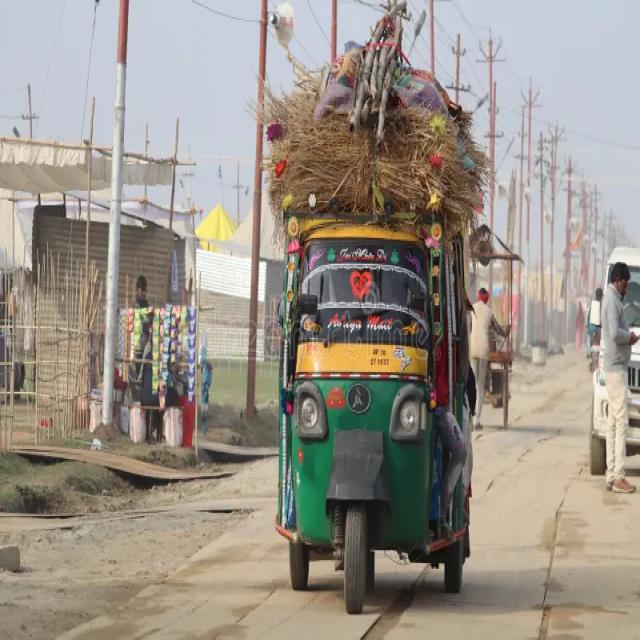Vehicles: (244, 18, 488, 640)
